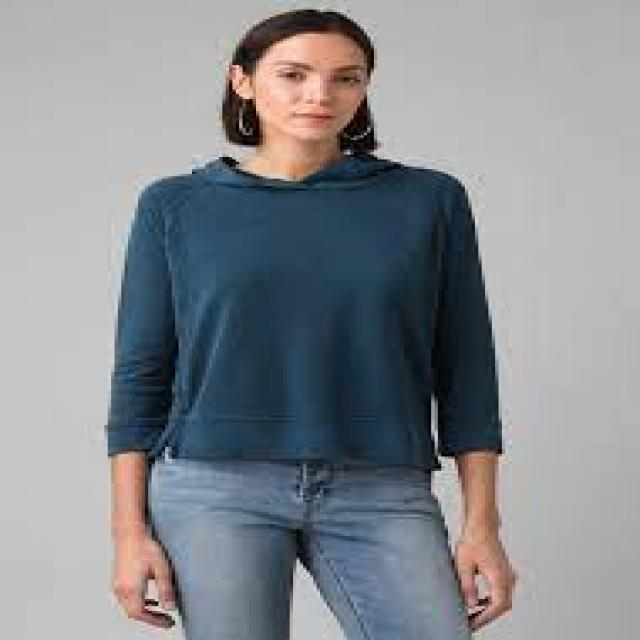plain: (111, 147, 512, 476)
